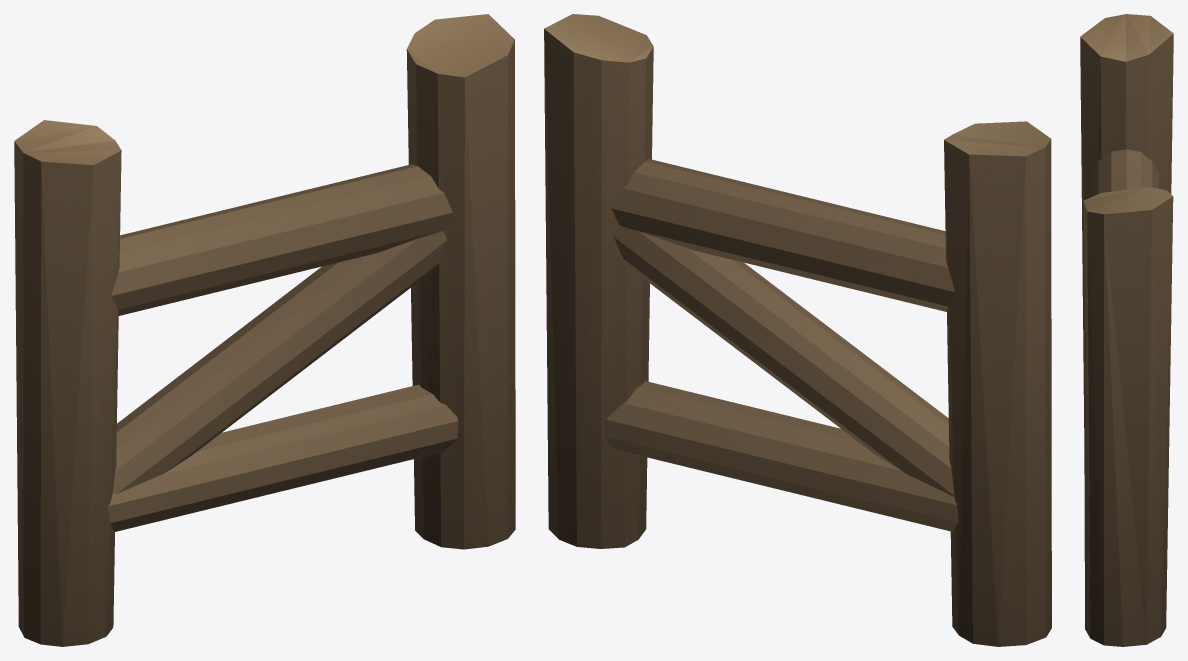
The model's file is ZLP_Build_F_20.FBX.
3 views of the same model, side by side, from view 1: azimuth 30°, elevation 25°; view 2: azimuth 150°, elevation 25°; view 3: azimuth 270°, elevation 25° (orthographic). The views are drawn at different scales.
Visible parts, largest first — view 1: ZLP_Build_F_20; view 2: ZLP_Build_F_20; view 3: ZLP_Build_F_20.
Part boxes in pixels (x1,y1,x2,y2): ZLP_Build_F_20: (14, 14, 515, 646); ZLP_Build_F_20: (544, 14, 1051, 646); ZLP_Build_F_20: (1080, 14, 1173, 646).
Size of the model in its own units: 84.66 by 82.94 by 16.16.
